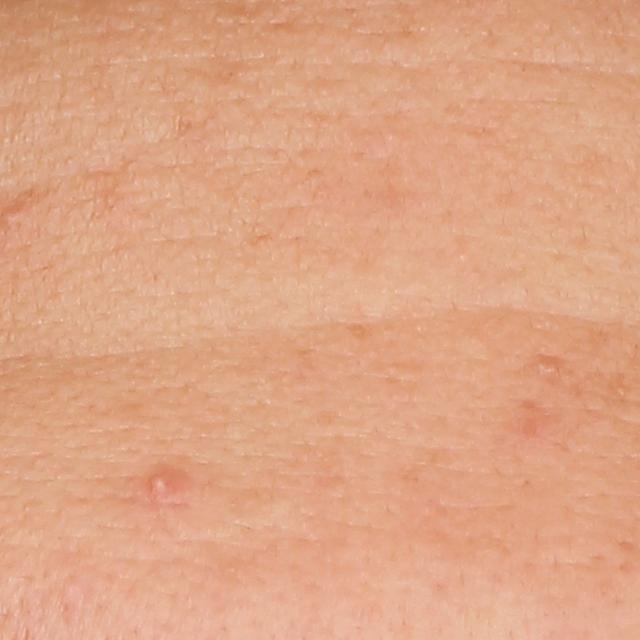comedo: (531, 352, 563, 381)
pustule: (135, 462, 192, 510)
